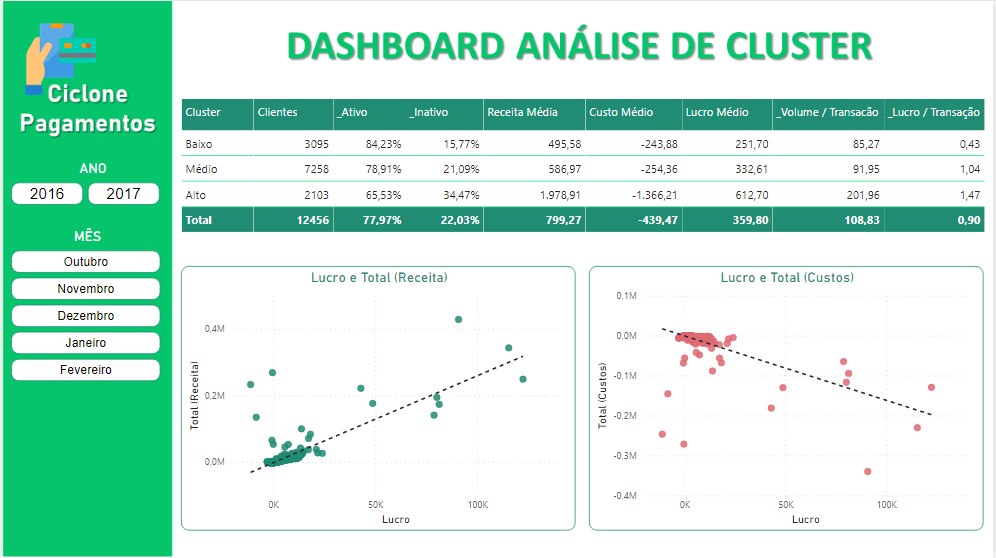

Layout of this report page (visuals, bound fields, positions):
{"tool":"powerbi","page":{"name":"Cluster","canvas":[1280,720],"ordinal":0},"visuals":[{"type":"ChicletSlicer1448559807354","title":"ANO","fields":{"Category":["Clientes.Data Apuração.Variation.Date Hierarchy.Year"]},"box":[2.8,205.1,227.1,88.1],"z":0},{"type":"ChicletSlicer1448559807354","title":"MÊS","fields":{"Category":["Clientes.Mês Apuração"]},"box":[2.8,293.2,213.3,224.3],"z":1000},{"type":"tableEx","fields":{"Values":["Clientes.Cluster","CountNonNull(Clientes.Número do Cliente)","Clientes._Ativo","Clientes._Inativo","Avg(Clientes.Total (Receita))","Avg(Clientes.Total (Custos))","Avg(Clientes.Lucro )","Clientes._Volume / Transacão","Clientes._Receita Volume Tran"]},"box":[224.4,121.9,1050,200.9],"z":2000},{"type":"scatterChart","title":"Lucro  e Total (Receita)","fields":{"X":["Clientes.Lucro "],"Y":["Clientes.Total (Receita)"]},"box":[230,342.2,509.8,342.2],"z":3000},{"type":"scatterChart","title":"Lucro  e Total (Custos)","fields":{"X":["Clientes.Lucro "],"Y":["Clientes.Total (Custos)"]},"box":[757.7,342.2,509.8,342.2],"z":4000}]}

Visuals, with their boxes in screenshot pixels (x1, y1, x2, y2), scaled from the page's 1280x720 canvas onto the 996x558 screenshot:
"ANO" ChicletSlicer1448559807354: bbox=[2, 159, 179, 227]
"MÊS" ChicletSlicer1448559807354: bbox=[2, 227, 168, 401]
tableEx - Clientes.Cluster x CountNonNull(Clientes.Número do Cliente): bbox=[175, 94, 992, 250]
"Lucro  e Total (Receita)" scatterChart: bbox=[179, 265, 576, 530]
"Lucro  e Total (Custos)" scatterChart: bbox=[590, 265, 986, 530]
